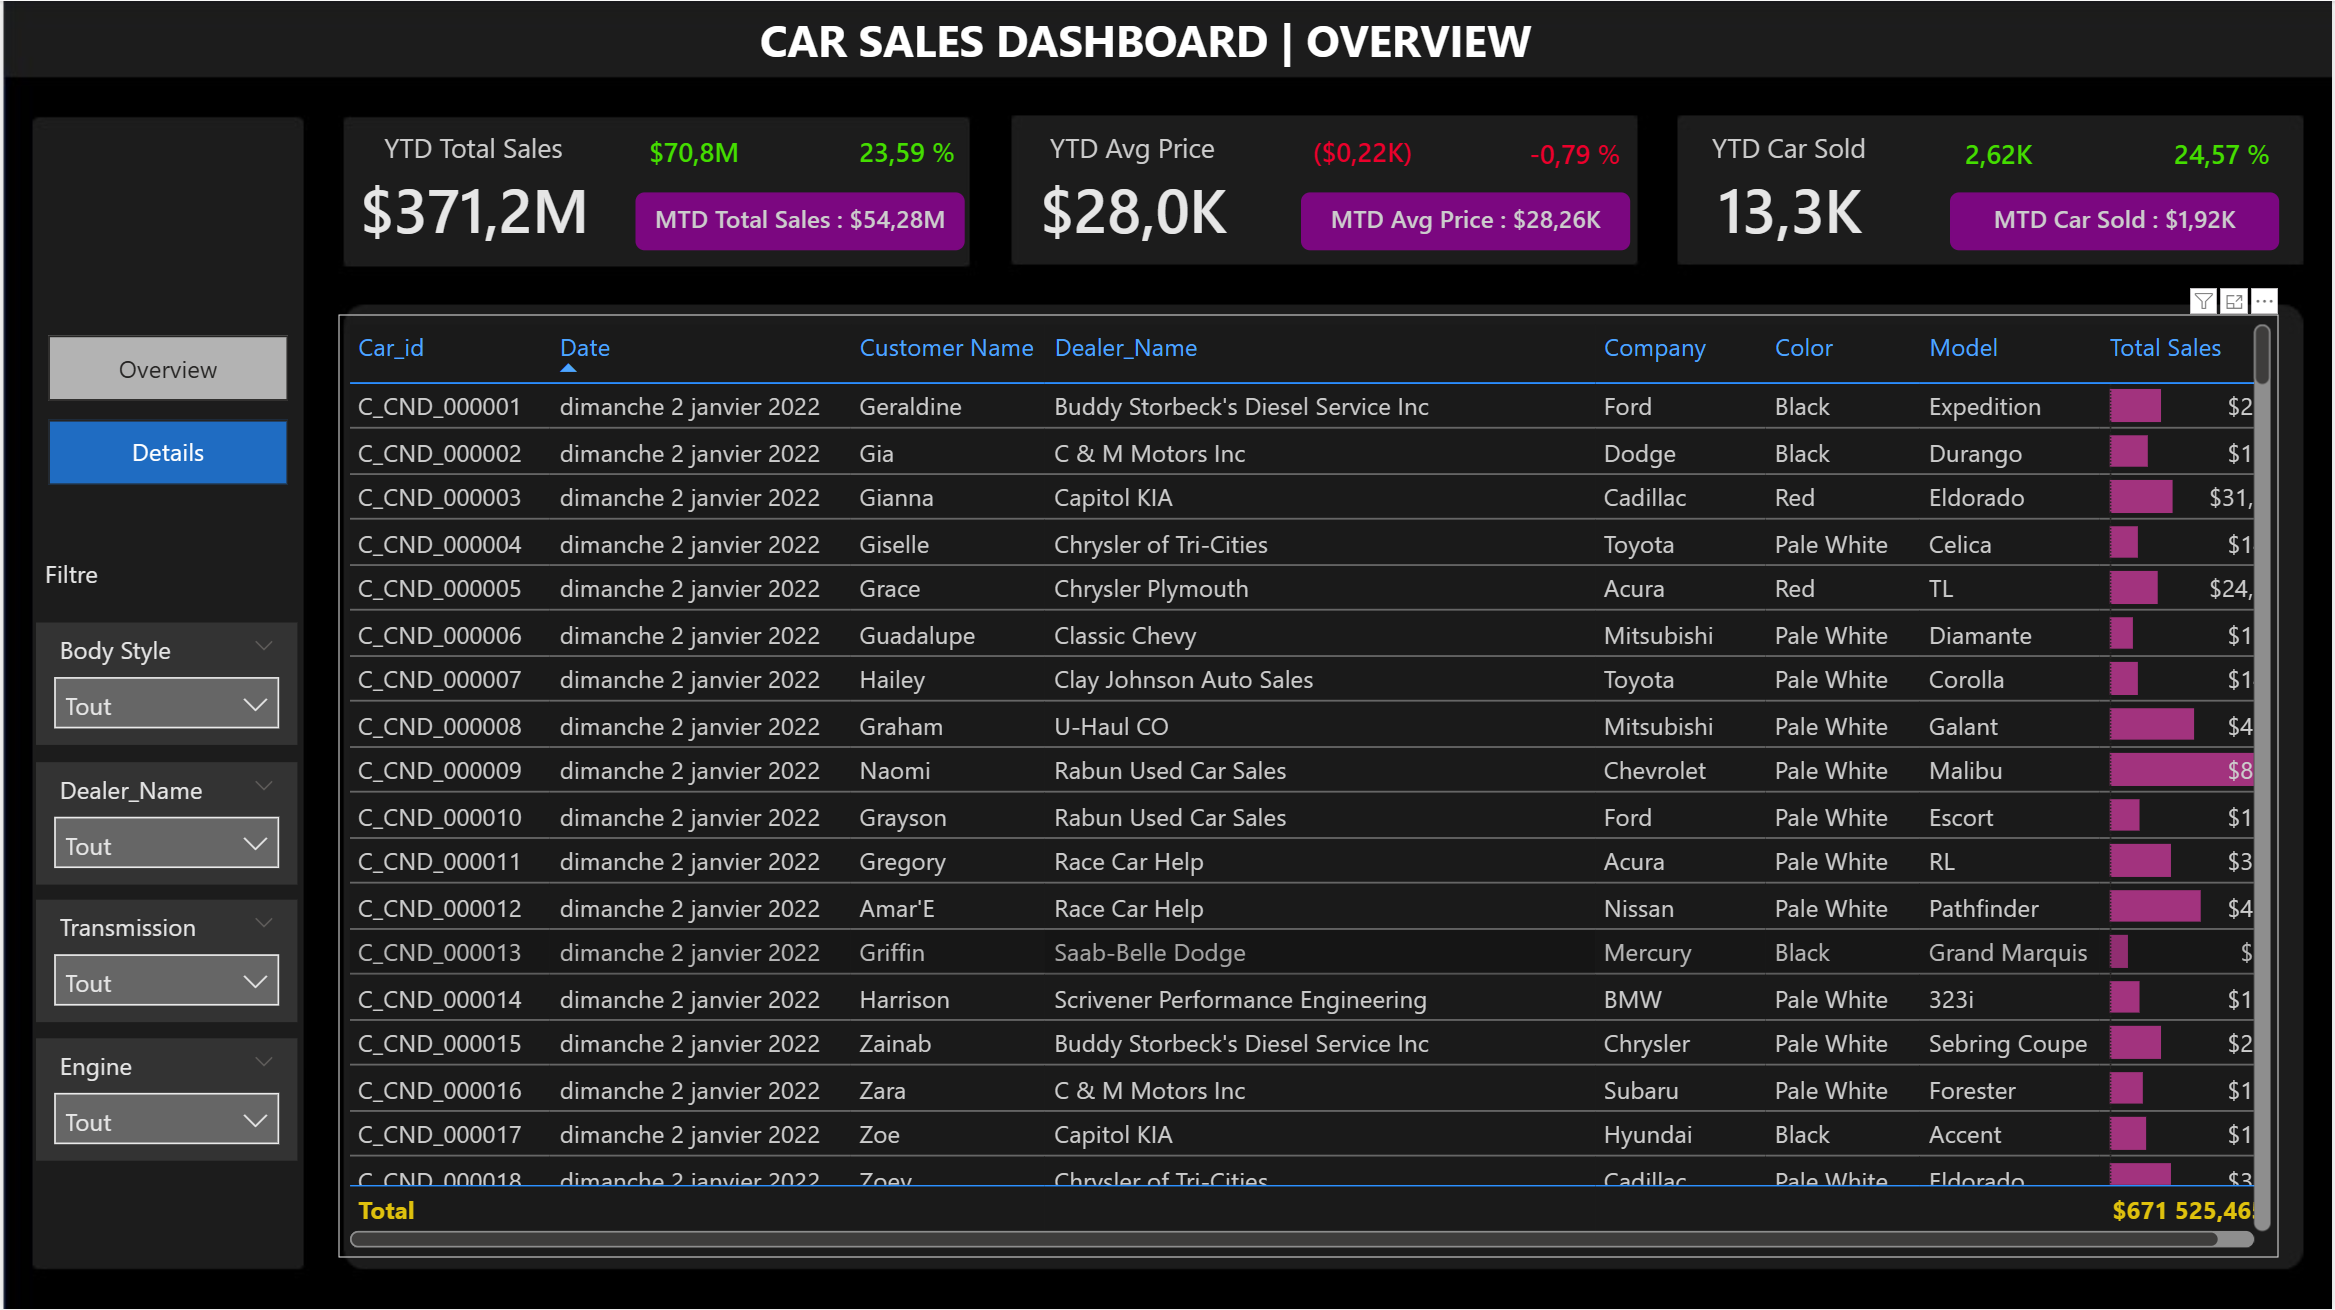

Layout of this report page (visuals, bound fields, positions):
{"tool":"powerbi","page":{"name":"Details","canvas":[1280,720],"ordinal":1},"visuals":[{"type":"card","title":"YTD Total Sales","fields":{"Values":["car_data.YTD Total sales"]},"box":[184.2,70.8,148.3,68.3],"z":0},{"type":"card","fields":{"Values":["car_data.Sales Difference"]},"box":[347.5,70.8,63.3,27.5],"z":1000},{"type":"card","fields":{"Values":["car_data.YOY Sales Growth"]},"box":[464.2,70.8,64.2,27.5],"z":2000},{"type":"card","fields":{"Values":["car_data.MTD KPI"]},"box":[347.5,105,180.8,32],"z":3000},{"type":"card","title":"YTD Avg Price","fields":{"Values":["car_data.YTD Avg Price"]},"box":[546.7,70.8,148.3,68.3],"z":4000},{"type":"card","fields":{"Values":["car_data.Avg Price Diff"]},"box":[713.3,70.8,66.7,27.5],"z":5000},{"type":"card","fields":{"Values":["car_data.YOY Avg Price Growth"]},"box":[832.5,71.7,61.7,27.5],"z":6000},{"type":"card","fields":{"Values":["car_data.MTD Avg Price KPI"]},"box":[713.3,105,180.8,31.7],"z":7000},{"type":"card","title":"YTD Car Sold","fields":{"Values":["car_data.YTD Car Sold"]},"box":[907.5,70.8,148.3,68.3],"z":8000},{"type":"card","fields":{"Values":["car_data.Cars Sold Diff"]},"box":[1070,71.7,52.5,27.5],"z":9000},{"type":"card","fields":{"Values":["car_data.YOY Car Sold Growth"]},"box":[1187.5,71.7,63.3,27.5],"z":10000},{"type":"card","fields":{"Values":["car_data.MTD Car Sold KPI"]},"box":[1070,105,180.8,31.7],"z":11000},{"type":"textbox","box":[410.8,0,438.3,43.3],"z":12000},{"type":"slicer","fields":{"Values":["car_data.Body Style"]},"box":[18.3,341.7,143.3,67.5],"z":13000},{"type":"slicer","fields":{"Values":["car_data.Dealer_Name"]},"box":[18.3,418.3,143.3,67.5],"z":14000},{"type":"slicer","fields":{"Values":["car_data.Transmission"]},"box":[18.3,494.2,143.3,67.5],"z":15000},{"type":"slicer","fields":{"Values":["car_data.Engine"]},"box":[18.3,570,143.3,67.5],"z":16000},{"type":"textbox","box":[18.3,300,143.3,31.7],"z":17000},{"type":"tableEx","fields":{"Values":["car_data.Car_id","car_data.Date","car_data.Customer Name","car_data.Dealer_Name","car_data.Company","car_data.Color","car_data.Model","car_data.Total Sales"]},"box":[184.2,172.5,1066.7,517.6],"z":18000},{"type":"pageNavigator","box":[24.6,183.5,132.1,82.2],"z":18001}]}

Visuals, with their boxes in screenshot pixels (x1, y1, x2, y2), scaled from the page's 1280x720 canvas onto the 2335x1310 screenshot:
"YTD Total Sales" card: left=336, top=129, right=607, bottom=253
card - car_data.Sales Difference: left=634, top=129, right=749, bottom=179
card - car_data.YOY Sales Growth: left=847, top=129, right=964, bottom=179
card - car_data.MTD KPI: left=634, top=191, right=964, bottom=249
"YTD Avg Price" card: left=997, top=129, right=1268, bottom=253
card - car_data.Avg Price Diff: left=1301, top=129, right=1423, bottom=179
card - car_data.YOY Avg Price Growth: left=1519, top=130, right=1631, bottom=180
card - car_data.MTD Avg Price KPI: left=1301, top=191, right=1631, bottom=249
"YTD Car Sold" card: left=1655, top=129, right=1926, bottom=253
card - car_data.Cars Sold Diff: left=1952, top=130, right=2048, bottom=180
card - car_data.YOY Car Sold Growth: left=2166, top=130, right=2282, bottom=180
card - car_data.MTD Car Sold KPI: left=1952, top=191, right=2282, bottom=249
textbox: left=749, top=0, right=1549, bottom=79
slicer - car_data.Body Style: left=33, top=622, right=295, bottom=745
slicer - car_data.Dealer_Name: left=33, top=761, right=295, bottom=884
slicer - car_data.Transmission: left=33, top=899, right=295, bottom=1022
slicer - car_data.Engine: left=33, top=1037, right=295, bottom=1160
textbox: left=33, top=546, right=295, bottom=604
tableEx - car_data.Car_id x car_data.Date: left=336, top=314, right=2282, bottom=1256
pageNavigator: left=45, top=334, right=286, bottom=483
